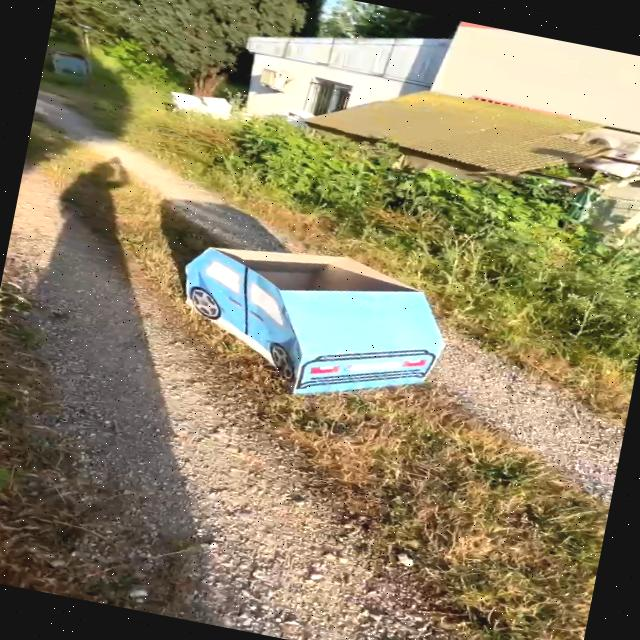blue_car: (90, 198, 510, 453)
